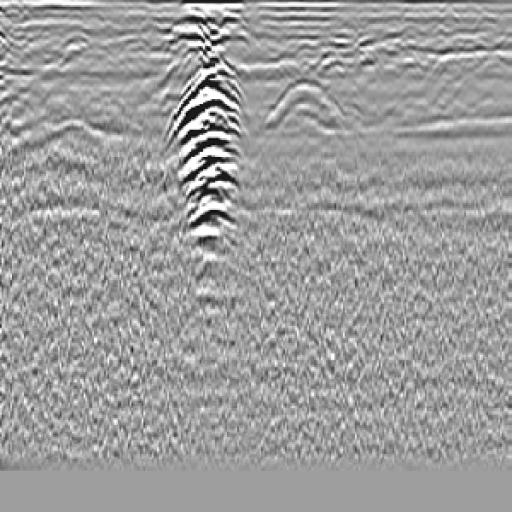metalic: (170, 21, 257, 279)
nonmetalic: (247, 57, 379, 182)
